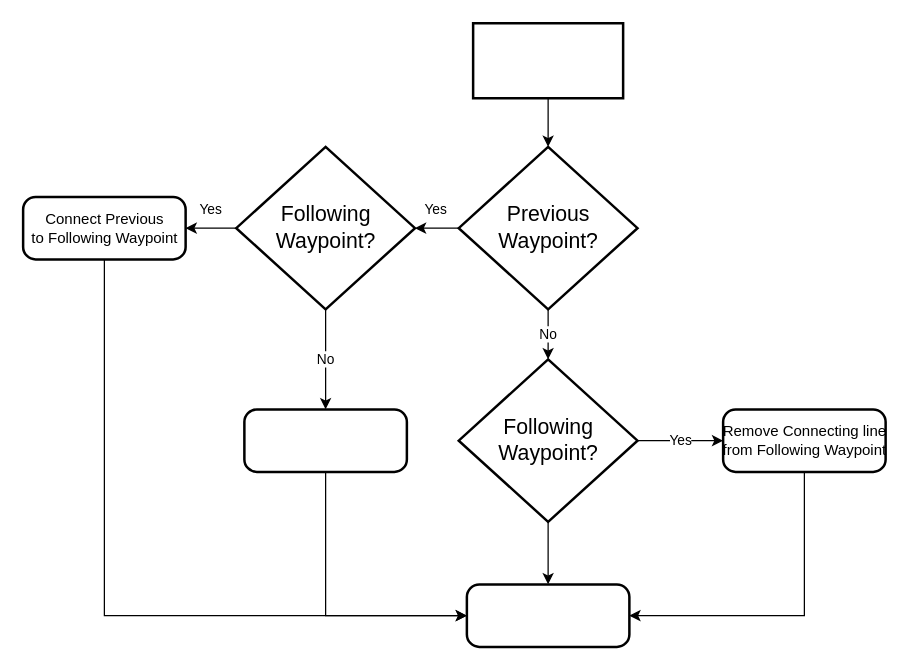
Some shapes in this 908 by 669 pixel diagram are drawn without their labels. The shapes that lost their labels are listed below. From the top down, each one's centre as x and y in pixels, then its label:
[547,60]: Select "Remove waypoint"
[325,440]: Remove Connecting line from Previous Waypoint
[547,615]: Remove waypoint
